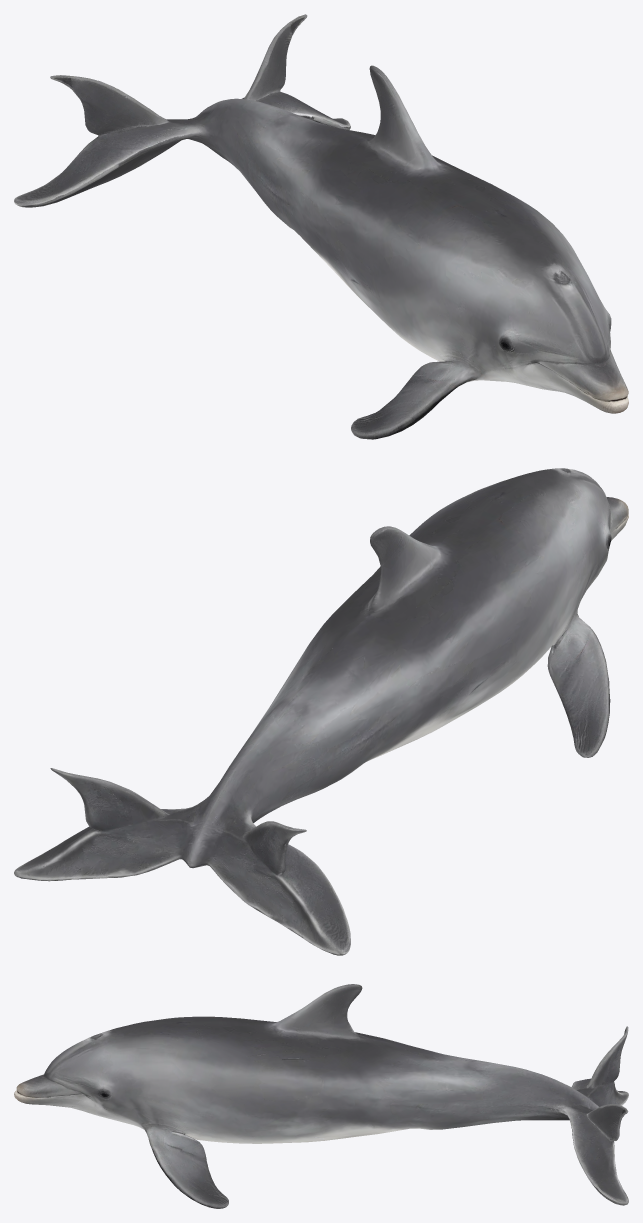
File: SM_Dolphin.glb
The picture shows the model from 3 angles, top to bottom: view 1: azimuth 30°, elevation 25°; view 2: azimuth 150°, elevation 25°; view 3: azimuth 270°, elevation 25°; orthographic projection. The views are drawn at different scales.
Visible parts, largest first — view 1: Mesh_0; view 2: Mesh_0; view 3: Mesh_0.
Boxes of the visible parts, bbox=[...] form: Mesh_0: bbox=[14, 14, 628, 439]; Mesh_0: bbox=[14, 468, 628, 955]; Mesh_0: bbox=[14, 984, 628, 1208].
Size of the model in its own units: 0.8159 by 0.6307 by 1.9.
Materials: 1 (1 with a texture image).
